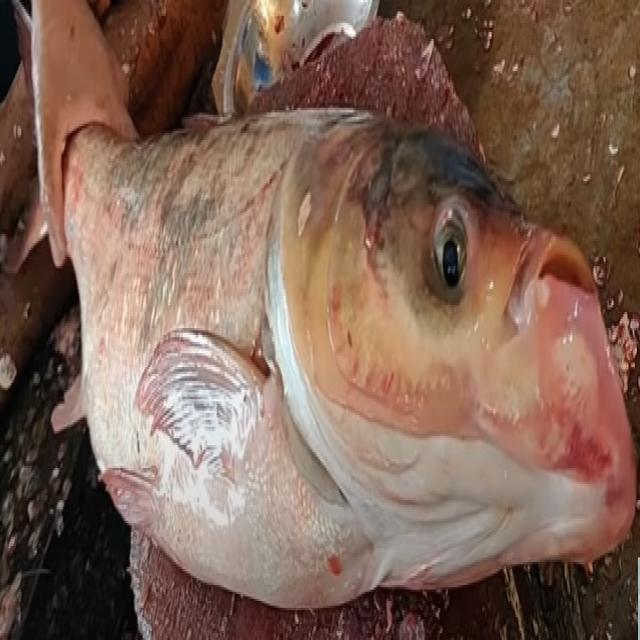Big-Head-Carp: (23, 28, 639, 617)
